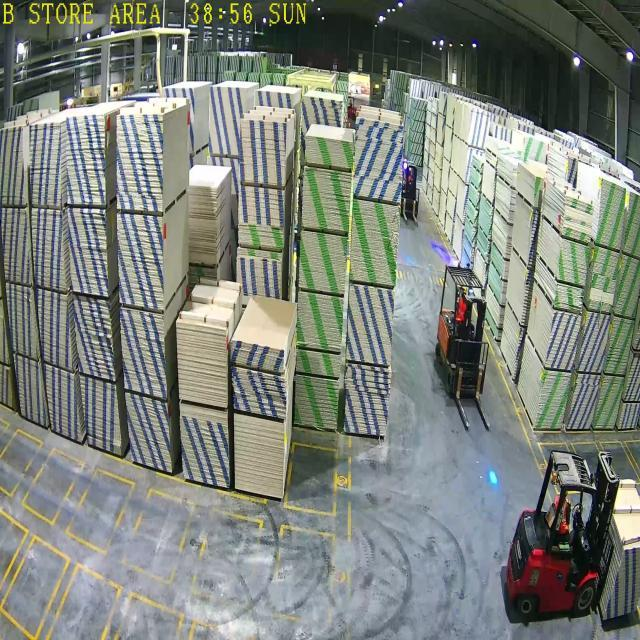stack: (233, 412, 285, 497), (350, 200, 400, 286), (354, 118, 404, 203), (346, 284, 395, 366), (344, 364, 392, 436), (303, 166, 352, 233), (297, 231, 348, 295), (232, 367, 286, 419), (298, 291, 344, 351), (295, 375, 339, 429), (545, 311, 582, 370), (534, 371, 571, 430), (588, 246, 620, 313), (596, 179, 626, 250), (578, 311, 611, 372), (567, 374, 601, 429), (230, 340, 284, 374), (604, 316, 635, 375), (305, 135, 353, 169), (594, 376, 625, 427), (557, 239, 590, 286), (562, 195, 594, 241), (296, 350, 340, 378), (554, 283, 585, 314)
